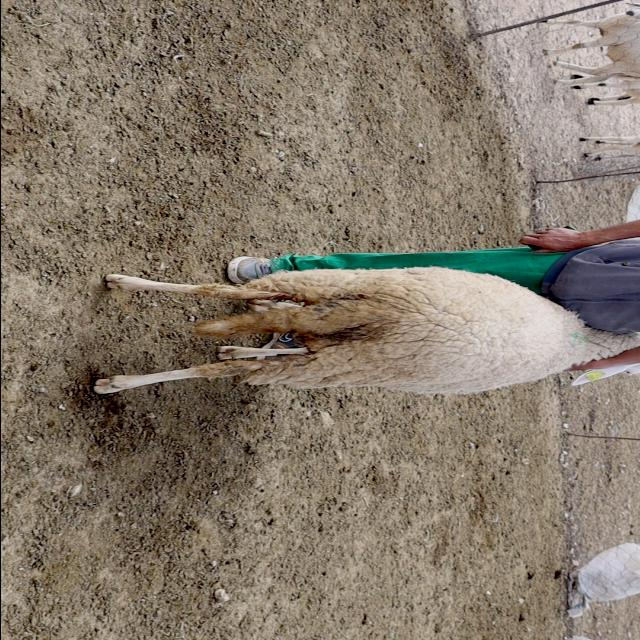Score_4: (93, 267, 640, 394)
